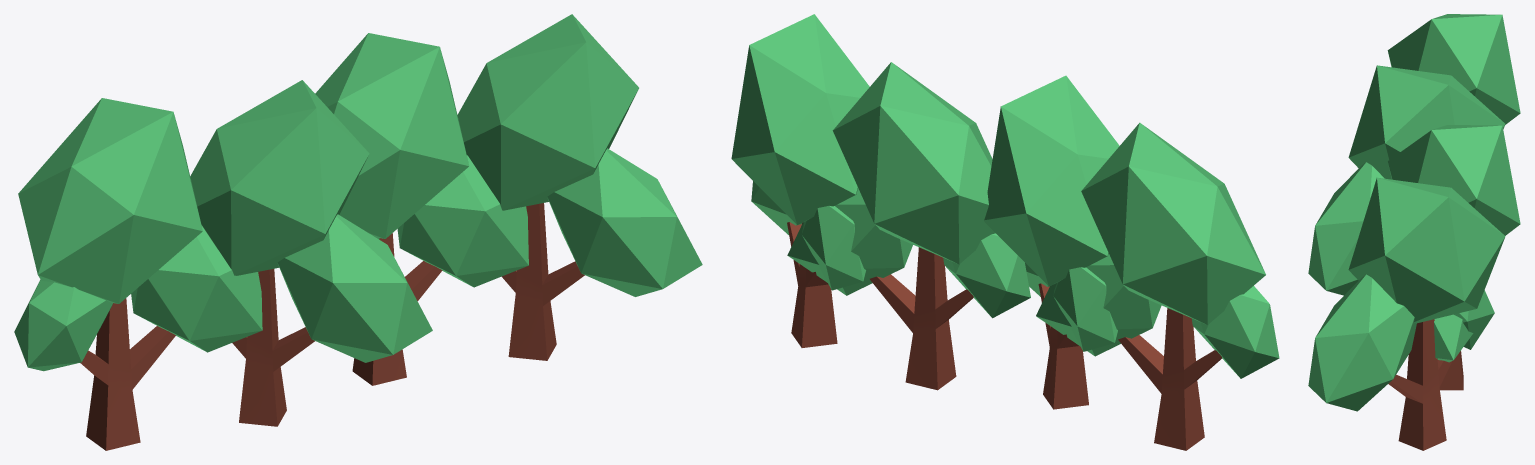
Rendered from Tree.fbx.
3 renders of one model, left to right at view 1: azimuth 30°, elevation 25°; view 2: azimuth 150°, elevation 25°; view 3: azimuth 270°, elevation 25°, orthographic. The views are drawn at different scales.
Visible parts, largest first — view 1: polySurface67, polySurface70, polySurface62, polySurface75, polySurface64, polySurface72, polySurface73, polySurface65, polySurface68, polySurface66, polySurface69, polySurface61 (+1 smaller); view 2: polySurface67, polySurface75, polySurface70, polySurface62, polySurface76, polySurface68, polySurface66, polySurface74, polySurface73, polySurface65, polySurface63, polySurface71 (+3 smaller); view 3: polySurface70, polySurface72, polySurface62, polySurface75, polySurface67, polySurface64, polySurface69, polySurface73, polySurface71, polySurface76.
Part boxes in pixels (x1,y1,x2,y2): polySurface67: (18, 98, 202, 303); polySurface70: (457, 14, 638, 210); polySurface62: (190, 80, 369, 275); polySurface75: (315, 33, 469, 238); polySurface64: (277, 214, 432, 362); polySurface72: (547, 148, 702, 296); polySurface73: (397, 155, 528, 287); polySurface65: (131, 225, 262, 352); polySurface68: (80, 298, 175, 450); polySurface66: (14, 279, 113, 371); polySurface69: (501, 203, 584, 360); polySurface61: (232, 269, 314, 426); polySurface67: (1081, 122, 1265, 324); polySurface75: (832, 62, 995, 264); polySurface70: (731, 14, 869, 224); polySurface62: (984, 75, 1119, 286); polySurface76: (870, 247, 973, 390); polySurface68: (1118, 308, 1221, 450); polySurface66: (1191, 286, 1279, 378); polySurface74: (943, 233, 1030, 318); polySurface73: (787, 188, 912, 295); polySurface65: (1036, 253, 1161, 356); polySurface63: (1053, 267, 1117, 351); polySurface71: (801, 206, 865, 290); polySurface70: (1348, 177, 1505, 323); polySurface72: (1308, 274, 1416, 411); polySurface62: (1348, 65, 1505, 179); polySurface75: (1387, 125, 1520, 235); polySurface67: (1387, 14, 1520, 124); polySurface64: (1308, 162, 1384, 295); polySurface69: (1388, 319, 1451, 450); polySurface73: (1434, 314, 1473, 362); polySurface71: (1454, 290, 1494, 349); polySurface76: (1439, 351, 1463, 390).
Bounding box in the file's own units: 63.97 × 31.95 × 22.41.
